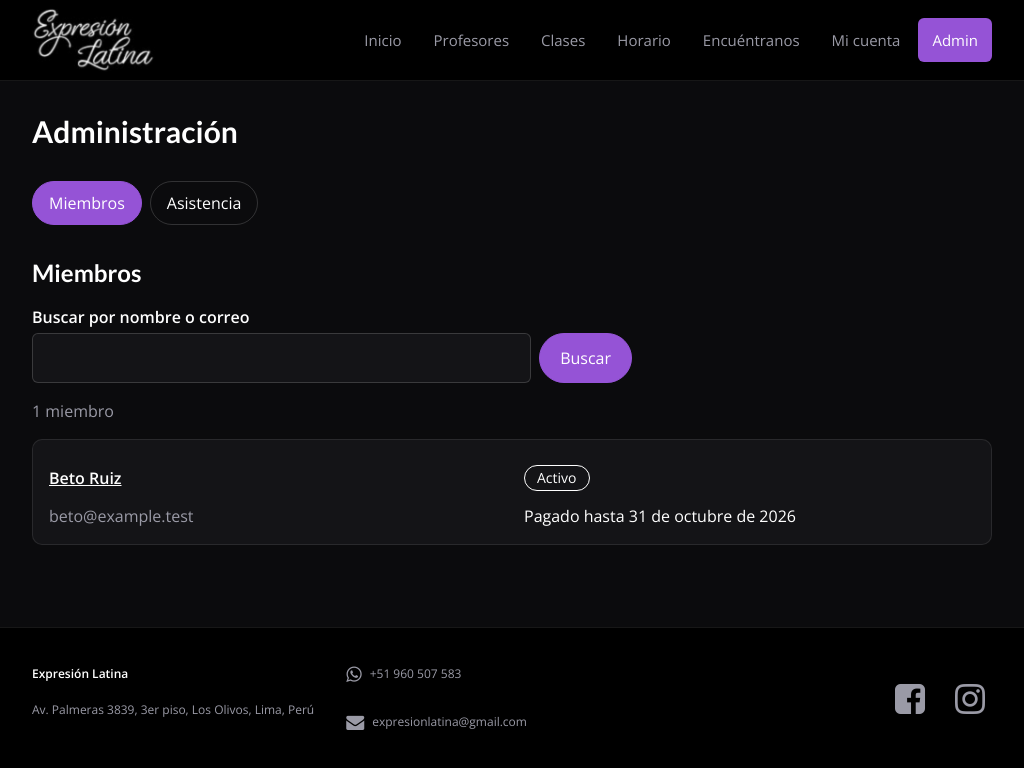
Test case: App admin routes › for an administrator › follows a member link from the directory to the page of that member, inside the same admin frame
Step 1. Click the link "Beto Ruiz" → (85, 478), box [49, 467, 122, 489]
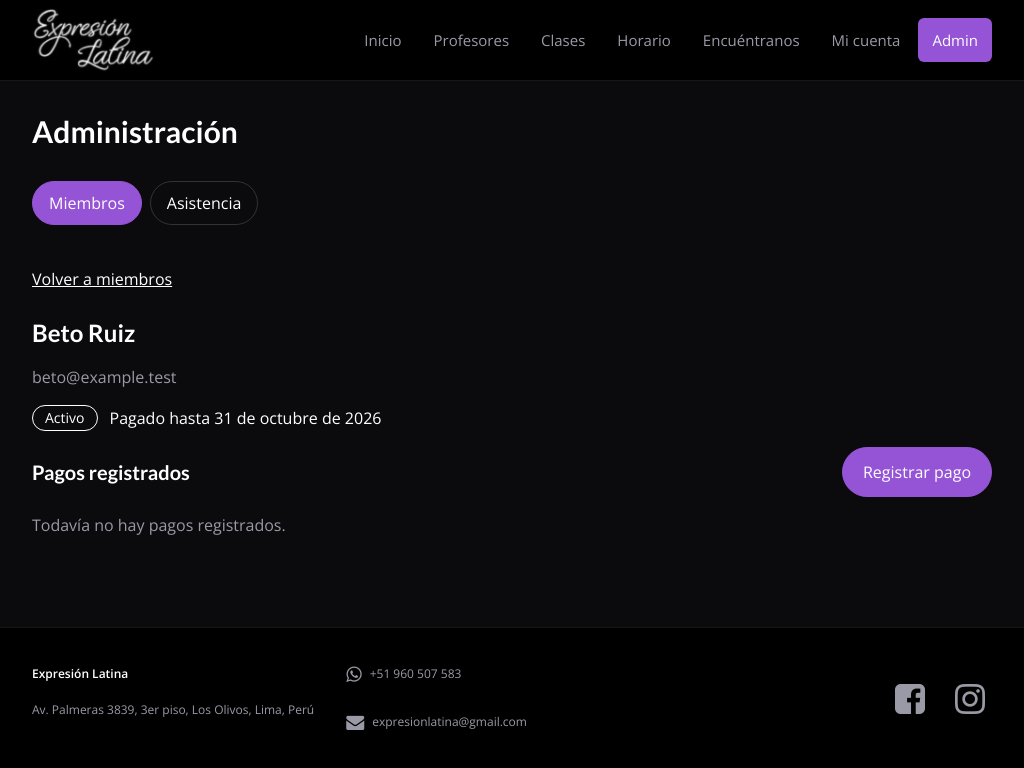
Expected: the heading "Beto Ruiz" is shown, [32, 318, 135, 347]
Expected: the heading "Pagos registrados" is shown, [32, 458, 190, 486]
